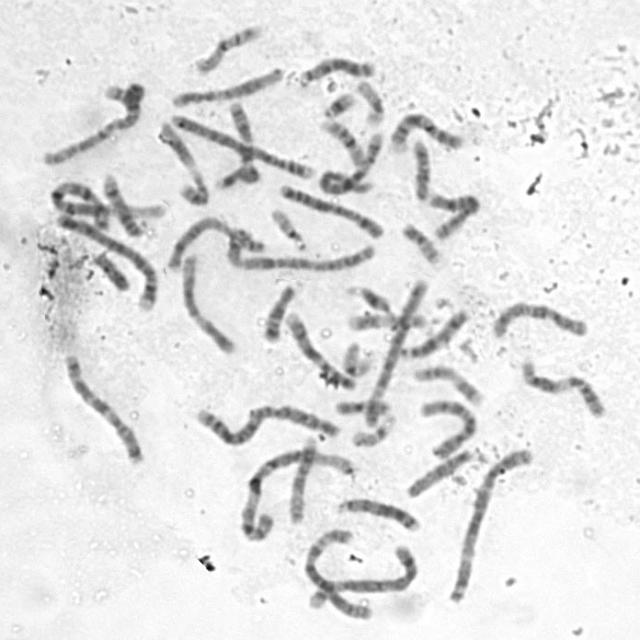A1: (233, 441, 356, 543), (45, 176, 114, 235)
A2: (37, 78, 147, 168), (190, 397, 344, 447)
A3: (443, 441, 537, 606), (222, 224, 380, 274)
B4: (51, 208, 162, 313), (162, 110, 316, 182)
B5: (360, 272, 432, 429), (302, 540, 418, 612)
C10: (486, 296, 590, 341), (414, 394, 478, 461)
C11: (516, 354, 610, 420), (154, 117, 212, 208)
C12: (177, 249, 240, 356), (166, 60, 285, 108)
C6: (360, 272, 432, 429), (301, 523, 376, 623)
C7: (58, 348, 148, 466), (218, 95, 259, 190)
C8: (161, 213, 268, 274), (424, 189, 482, 241)
C9: (282, 306, 358, 392), (385, 106, 466, 156)
D13: (332, 493, 423, 533), (293, 52, 377, 88)
D14: (396, 305, 471, 361), (98, 168, 146, 238)
D15: (402, 443, 484, 500), (284, 431, 319, 527)
E16: (190, 18, 267, 76), (315, 114, 368, 168)
E17: (409, 360, 486, 407), (341, 307, 438, 333)
E18: (258, 279, 300, 344), (408, 134, 434, 202)
F19: (351, 75, 387, 129), (338, 337, 377, 379)
F20: (397, 218, 443, 266), (331, 394, 395, 418)
G21: (342, 279, 395, 314), (319, 86, 359, 120)
G22: (266, 203, 311, 252), (347, 411, 398, 449)
X: (274, 179, 386, 240), (314, 126, 386, 196)
Y: (89, 248, 132, 293)
